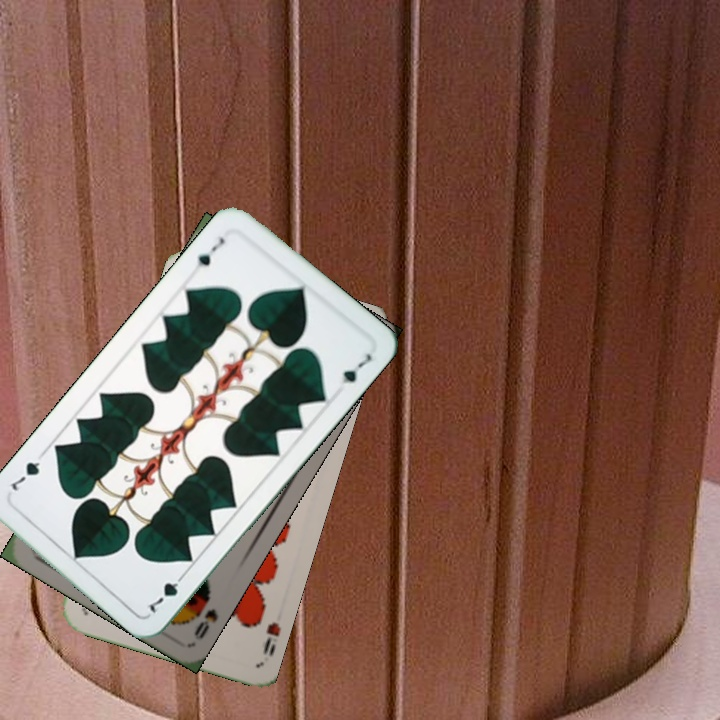G7: (142, 568, 189, 616), (193, 233, 228, 270)
H9: (259, 618, 283, 659)
SO: (187, 586, 221, 643)
